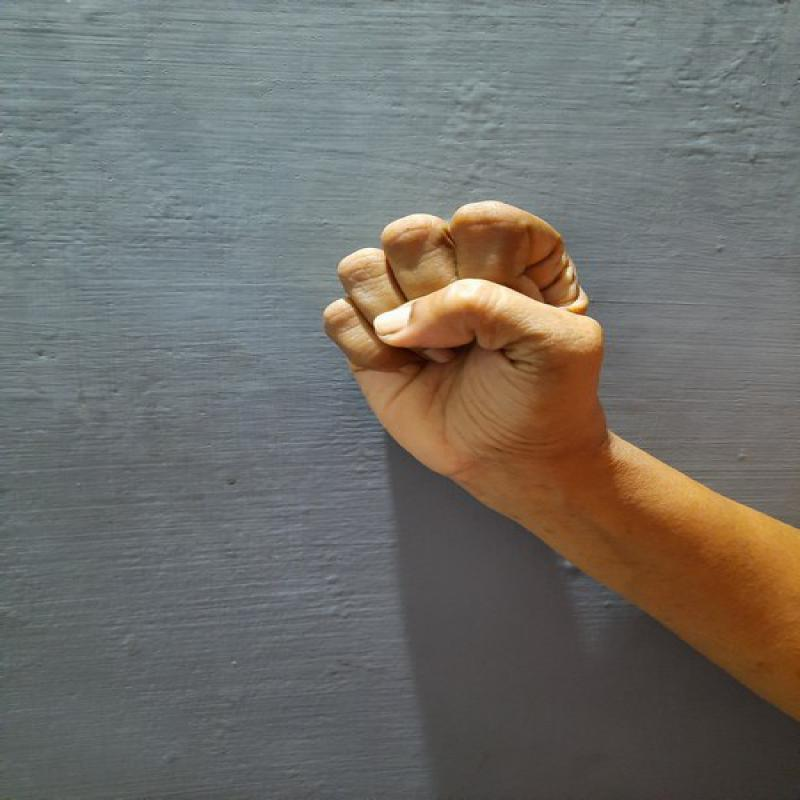Mushti: (310, 187, 621, 515)
